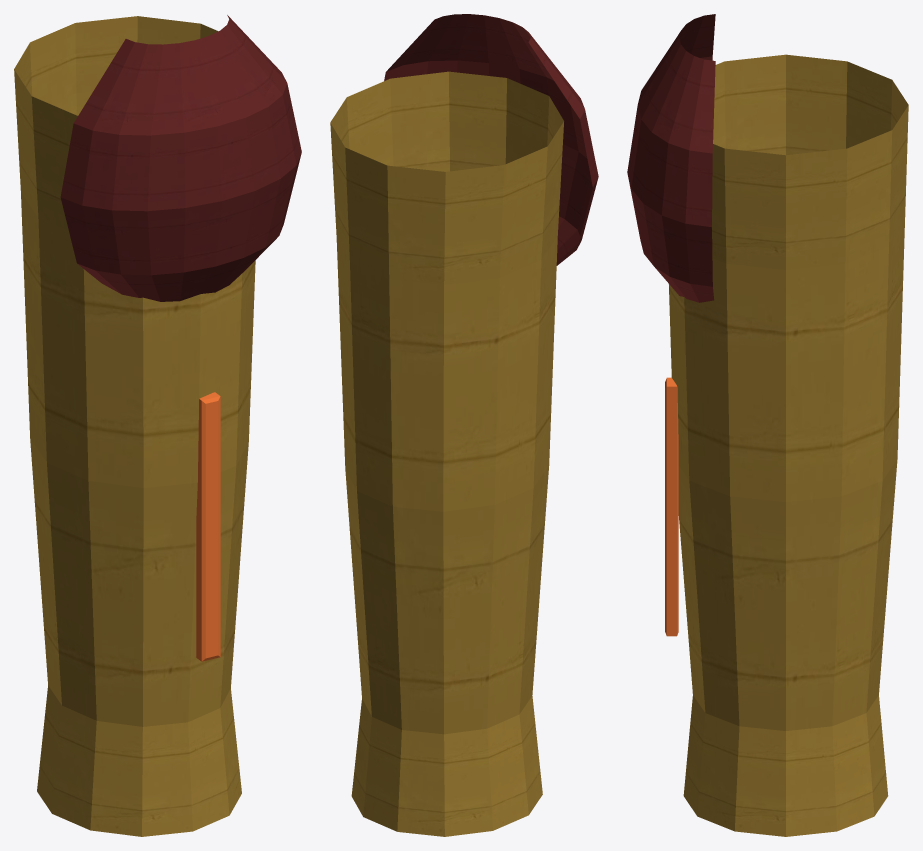
Rendered from eq_past_3_leg.glb.
3 views of the same model, side by side, from view 1: azimuth 30°, elevation 25°; view 2: azimuth 150°, elevation 25°; view 3: azimuth 270°, elevation 25° (orthographic). The views are drawn at different scales.
Visible parts, largest first — view 1: eq_past_3_leg; view 2: eq_past_3_leg; view 3: eq_past_3_leg.
Boxes of the visible parts, bbox=[...] form: eq_past_3_leg: bbox=[14, 15, 301, 836]; eq_past_3_leg: bbox=[330, 14, 598, 836]; eq_past_3_leg: bbox=[627, 14, 908, 836].
Bounding box in the file's own units: 0.1508 × 0.486 × 0.1634.
Materials: 3 (3 with a texture image).
